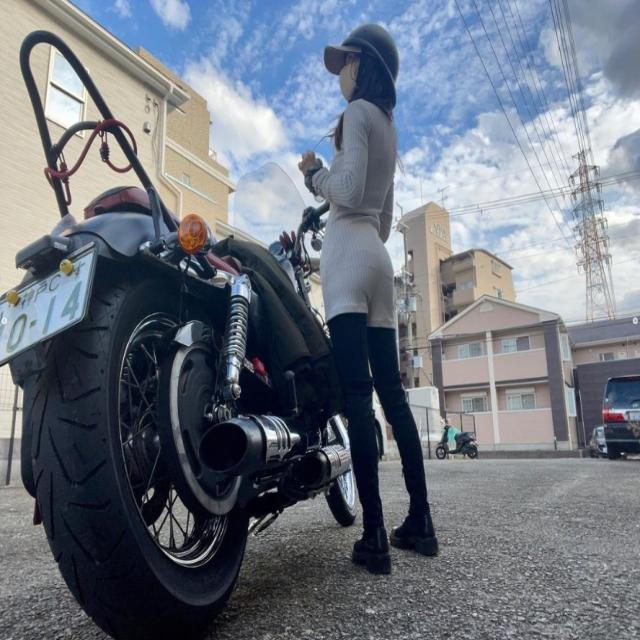illegal_helmet: (320, 20, 404, 111)
